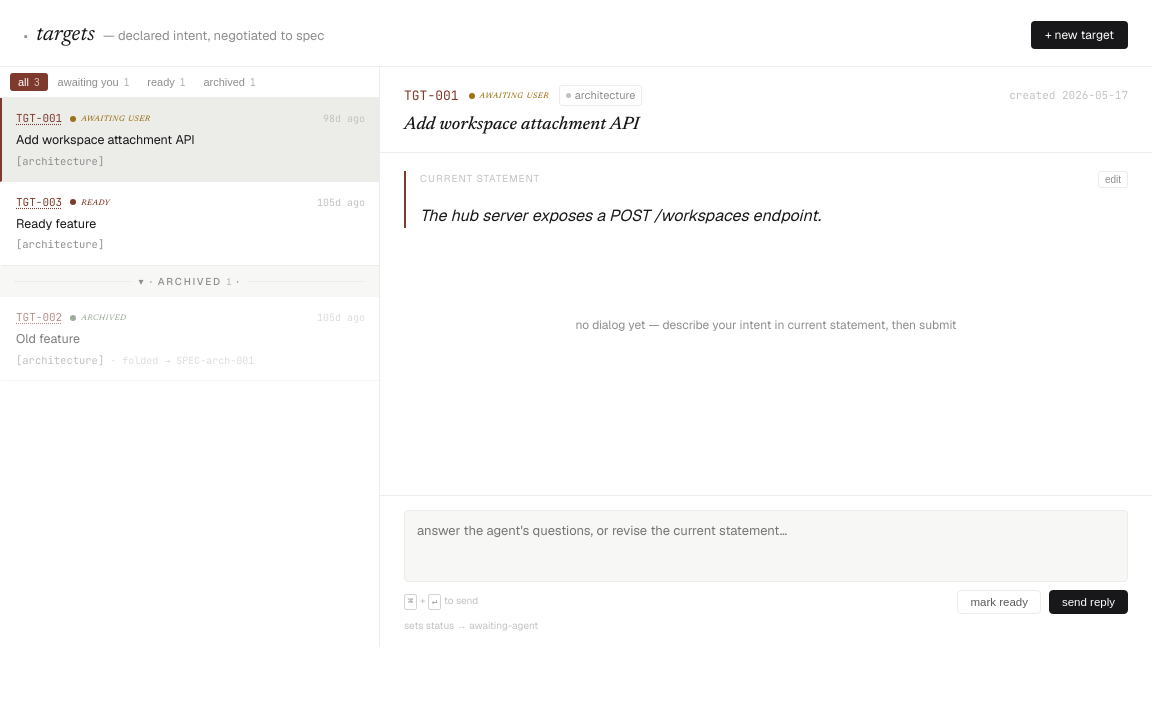
Test case: Targets list uses ArtifactList for all filter tabs (WI-scr-023) › non-all filter tab renders rows without a bare map — no divider when no archived items
Click the button "ready 1".
click(166, 82)  # box top-left (139, 73), bottom-right (193, 91)
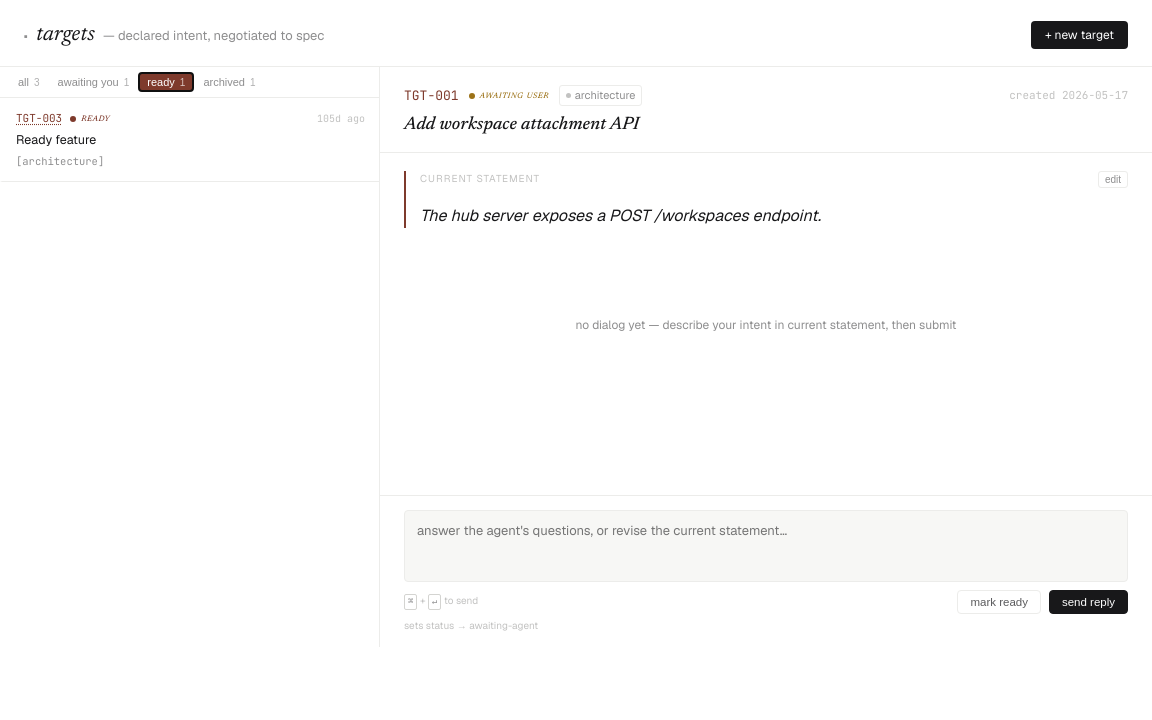
Expected: the element with class "target-row" shows "Ready feature", top-left (16, 131), bottom-right (96, 148)
Expected: the element with class "artifact-list-divider" is gone
Expected: the number of elements with class "target-row" is 1, top-left (0, 98), bottom-right (379, 182)
